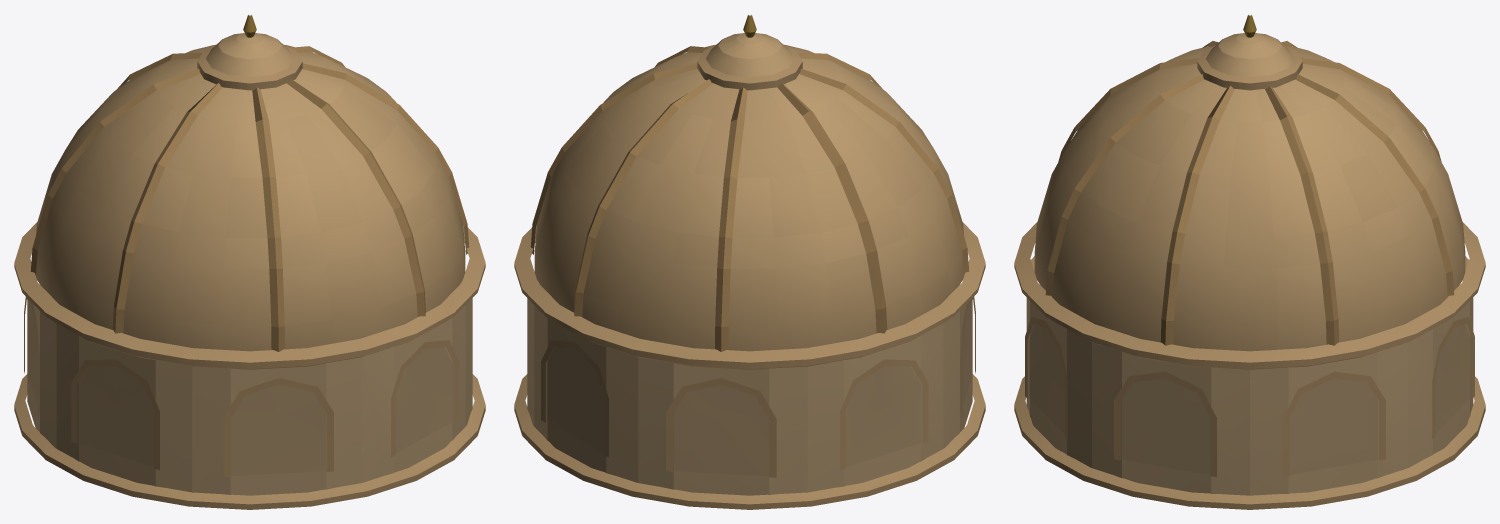
Rendered from dome.closed_8.sandstone.glb.
3 renders of one model, left to right at view 1: azimuth 30°, elevation 25°; view 2: azimuth 150°, elevation 25°; view 3: azimuth 270°, elevation 25°, orthographic.
Parts seen in each view (by area): view 1: dome_closed_8_sandstone; view 2: dome_closed_8_sandstone; view 3: dome_closed_8_sandstone.
Boxes of the visible parts, bbox=[...] form: dome_closed_8_sandstone: bbox=[14, 15, 485, 509]; dome_closed_8_sandstone: bbox=[514, 15, 985, 509]; dome_closed_8_sandstone: bbox=[1014, 15, 1485, 509].
Size of what is drawn, in the model's own units: 7.6 by 7.03 by 7.6.
